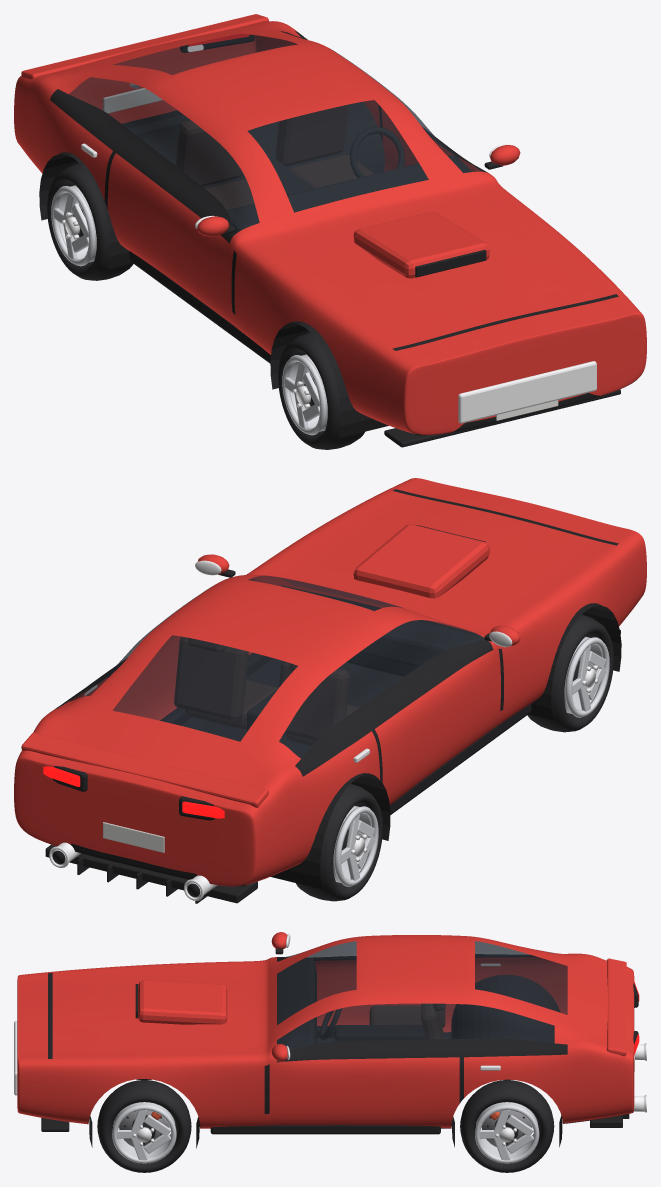
Rendered from brenner.glb.
3 renders of one model, top to bottom at view 1: azimuth 30°, elevation 25°; view 2: azimuth 150°, elevation 25°; view 3: azimuth 270°, elevation 25°, orthographic. The views are drawn at different scales.
Parts seen in each view (by area): view 1: body, wheel_rr, wheel_fr; view 2: body, wheel_fr, wheel_rr; view 3: body, wheel_fl, wheel_rl.
Boxes of the visible parts, x1,y1,x2,y2 form: body: (14,14,646,447); wheel_rr: (47,163,133,280); wheel_fr: (278,332,364,449); body: (14,478,646,903); wheel_fr: (527,614,613,732); wheel_rr: (296,783,382,901); body: (14,932,646,1148); wheel_fl: (97,1080,191,1172); wheel_rl: (460,1080,554,1172).
Bounding box in the file's own units: 2.29 × 1.4 × 4.97.
